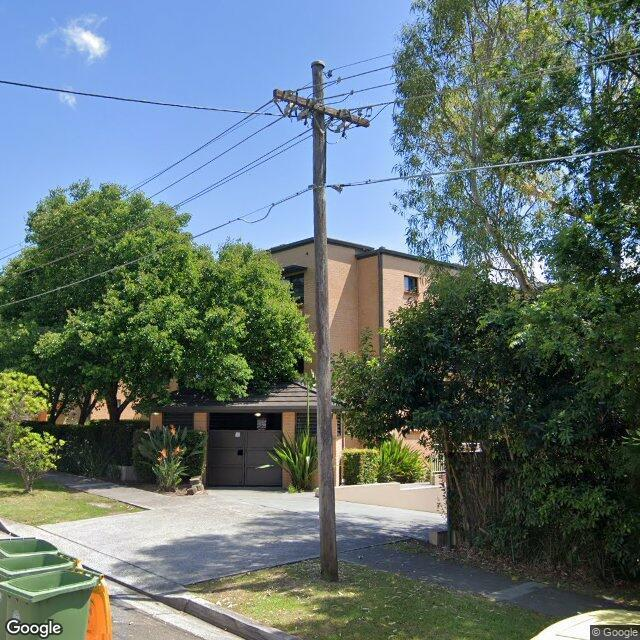crossarm: (273, 89, 371, 128)
timber-pole: (312, 59, 338, 583)
